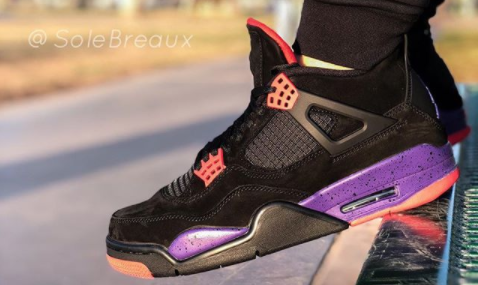Air Jordan 4 Raptors: (93, 15, 470, 281)
